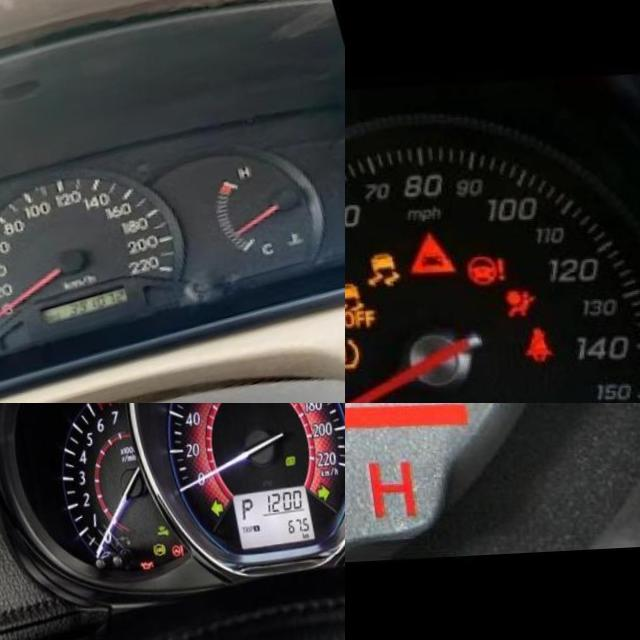Electronic Power Steering: (157, 547, 171, 560)
